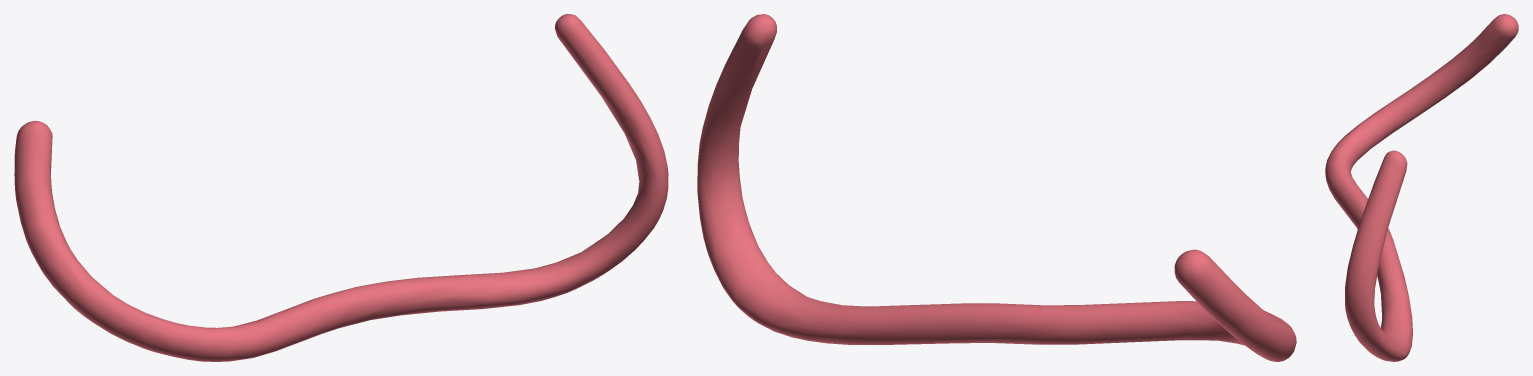
File: fma22839_fj2279.glb
3 renders of one model, left to right at view 1: azimuth 30°, elevation 25°; view 2: azimuth 150°, elevation 25°; view 3: azimuth 270°, elevation 25°, orthographic. The views are drawn at different scales.
Parts seen in each view (by area): view 1: FMA22839_FJ2279; view 2: FMA22839_FJ2279; view 3: FMA22839_FJ2279.
Boxes of the visible parts, x1=… form: FMA22839_FJ2279: x1=14, y1=14, x2=668, y2=361; FMA22839_FJ2279: x1=697, y1=14, x2=1296, y2=361; FMA22839_FJ2279: x1=1325, y1=14, x2=1518, y2=361.
Size of the model in its own units: 0.0447 by 0.0206 by 0.017.
